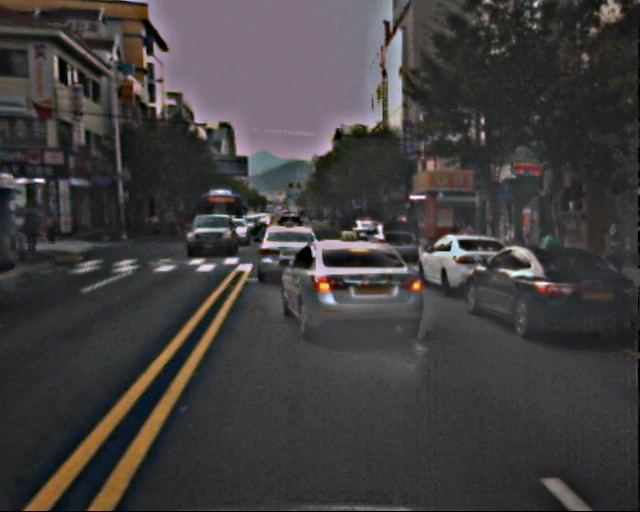person: (1, 220, 24, 302), (600, 221, 628, 287), (23, 201, 57, 249)
